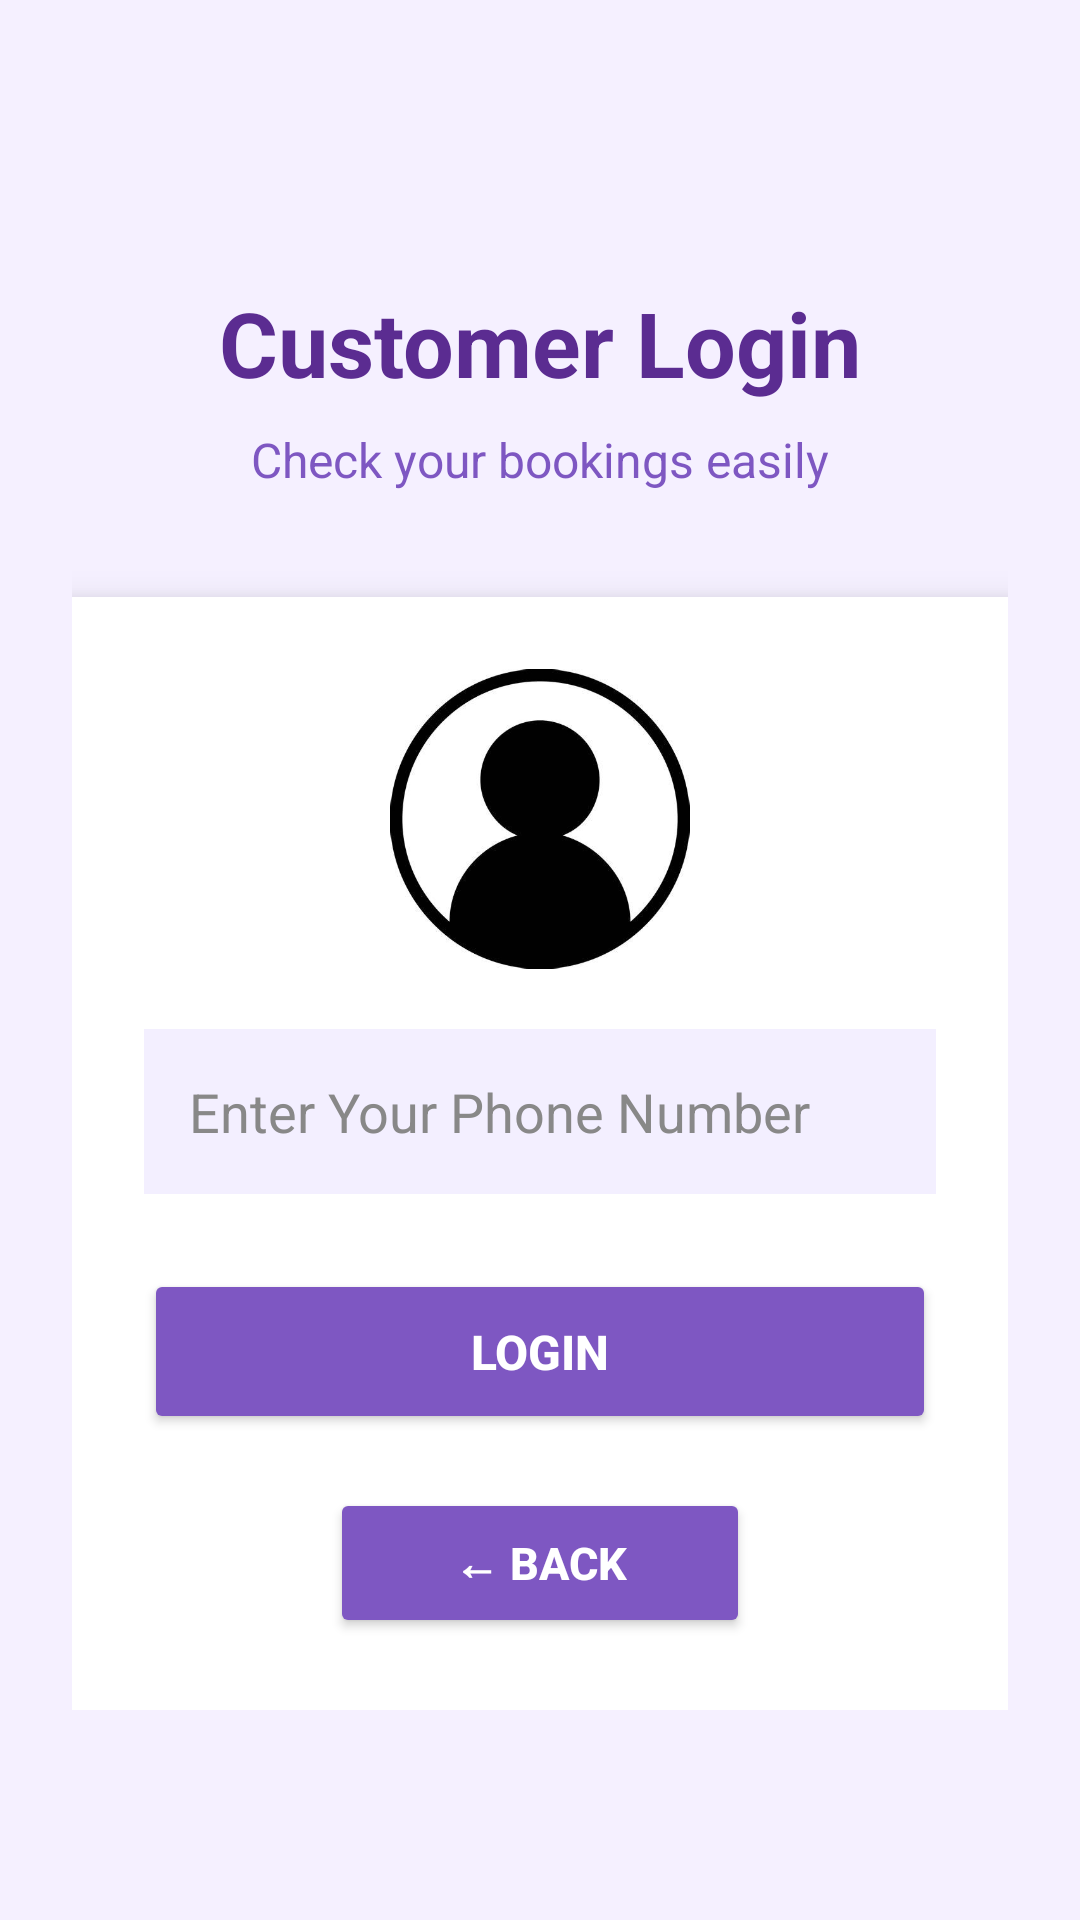

Icon bounding boxes for this 1080px x 1920px phone screenshot, format (x1, y1, x2, y2):
customer: (390, 669, 690, 969)
